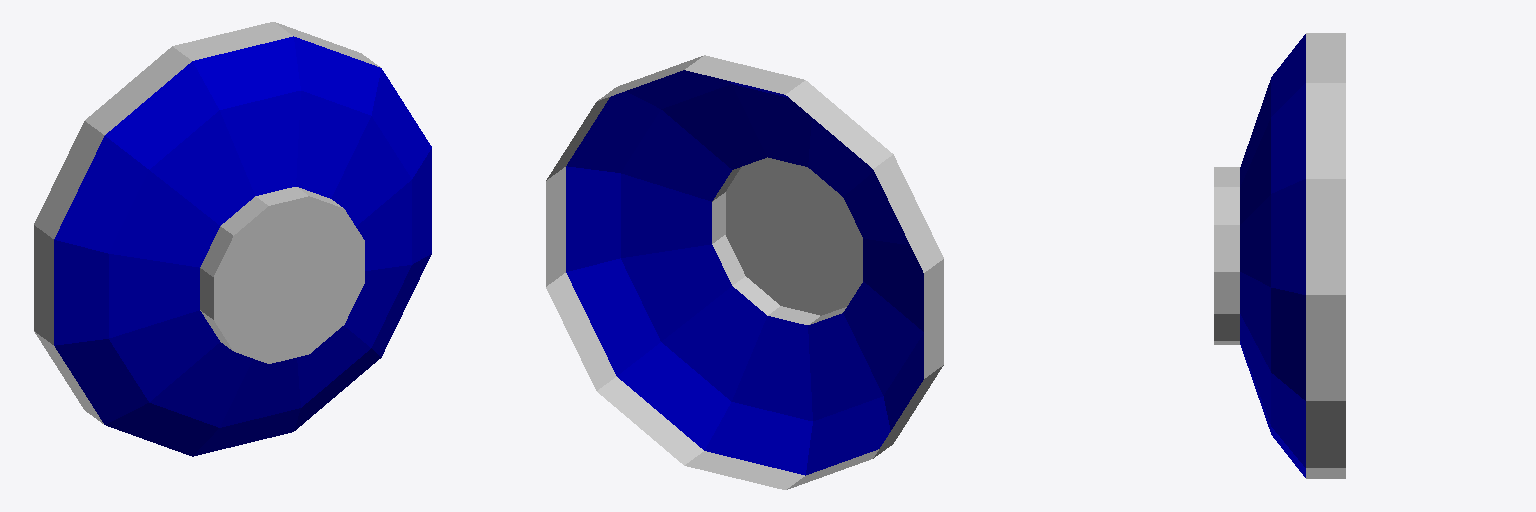
File: Track3HammerButton.obj
The picture shows the model from 3 angles: view 1: azimuth 30°, elevation 25°; view 2: azimuth 150°, elevation 25°; view 3: azimuth 270°, elevation 25°; orthographic projection.
Visible parts, largest first — view 1: Circle_Circle; view 2: Circle_Circle; view 3: Circle_Circle.
Boxes of the visible parts, <box> form: Circle_Circle: <box>34,22,431,456</box>; Circle_Circle: <box>546,55,943,489</box>; Circle_Circle: <box>1214,33,1345,478</box>.
Size of the model in its own units: 0.9852 by 0.9852 by 0.2992.